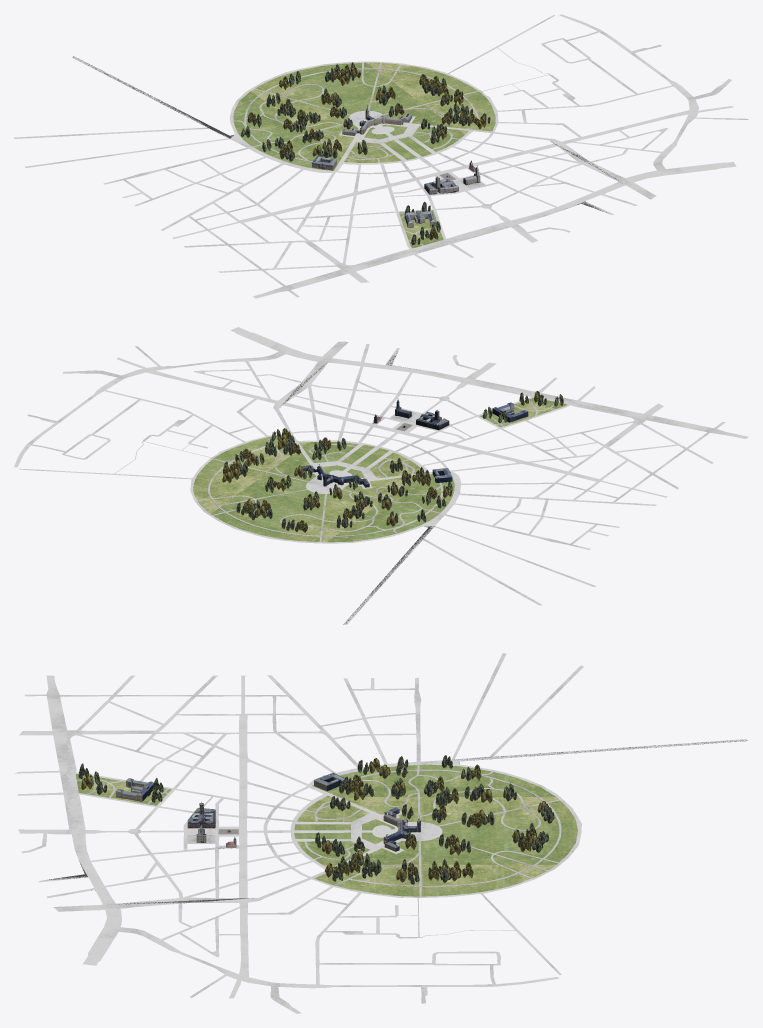
Rendered from iconic_buildings.glb.
3 views of the same model, one above another, from view 1: azimuth 30°, elevation 25°; view 2: azimuth 150°, elevation 25°; view 3: azimuth 270°, elevation 25° (orthographic). The views are drawn at different scales.
Parts seen in each view (by area): view 1: streets, ground_castle, street_castle, ground_natural_history_museum, castle, streets_night; view 2: streets, ground_castle, street_castle, ground_natural_history_museum, streets_night, castle; view 3: streets, ground_castle, street_castle, ground_natural_history_museum, castle.
Boxes of the visible parts, x1,y1,x2,y2 form: streets: (14, 14, 748, 298); ground_castle: (233, 62, 495, 170); street_castle: (233, 62, 495, 162); ground_natural_history_museum: (399, 210, 443, 248); castle: (342, 105, 412, 135); streets_night: (73, 56, 622, 212); streets: (14, 327, 748, 624); ground_castle: (193, 435, 454, 542); street_castle: (197, 437, 443, 541); ground_natural_history_museum: (480, 398, 567, 427); streets_night: (280, 351, 434, 624); castle: (301, 464, 369, 487); streets: (14, 653, 748, 1013); ground_castle: (294, 764, 577, 896); street_castle: (305, 764, 561, 896); ground_natural_history_museum: (76, 774, 171, 805); castle: (383, 807, 420, 851).
Bounding box in the file's own units: 10.88 × 0.2689 × 9.37.
Materials: 28 (28 with a texture image).
